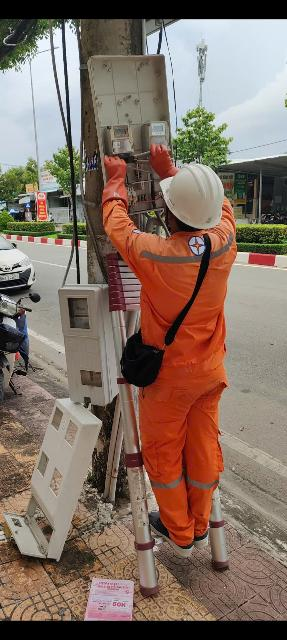gloves: (89, 153, 131, 210), (138, 136, 184, 180)
helmet: (140, 153, 235, 232)
shoes: (140, 499, 201, 567), (196, 513, 214, 552)
